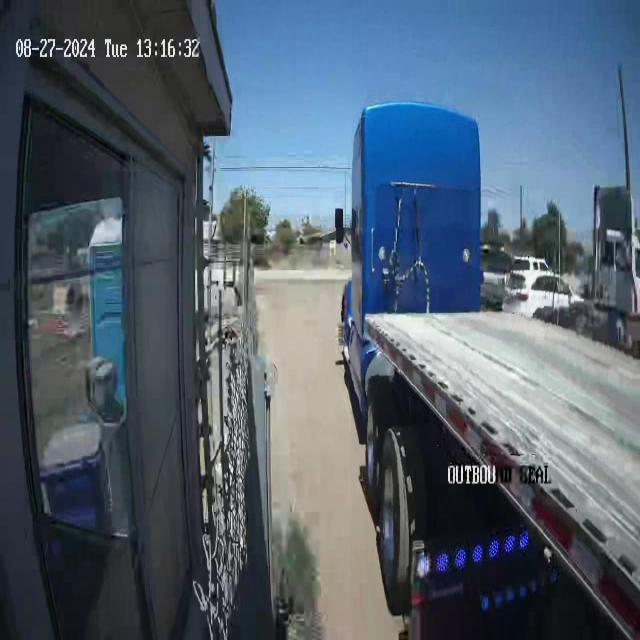BOBTAIL: (335, 98, 639, 637)
